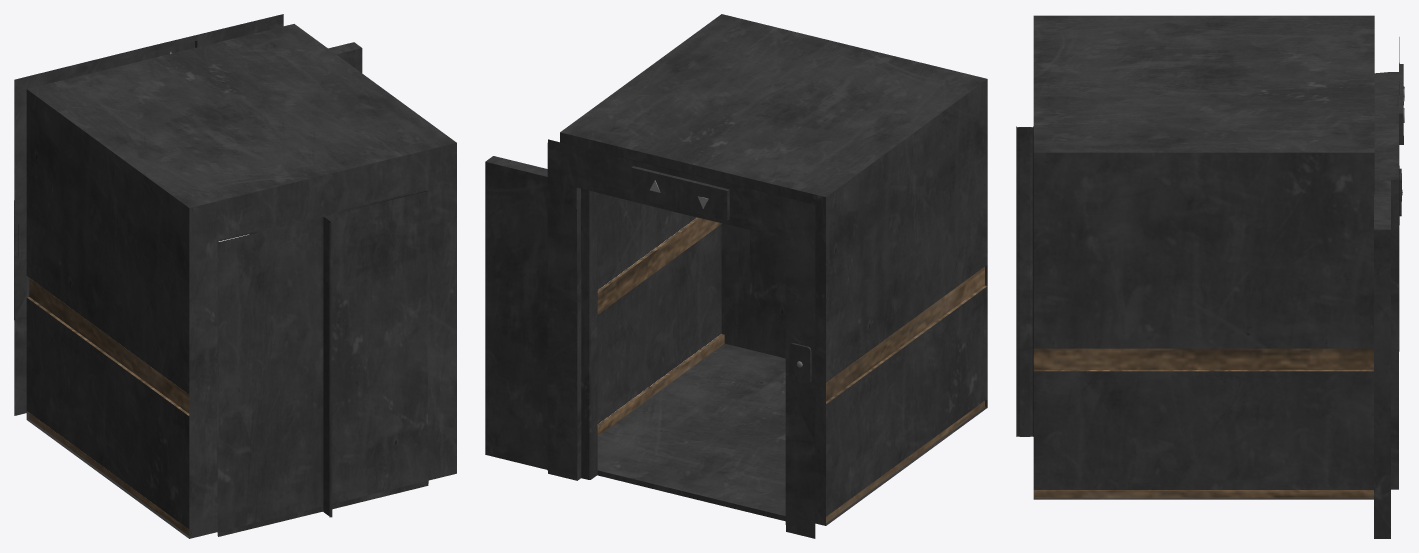
The model's file is elevator.glb.
3 renders of one model, left to right at view 1: azimuth 30°, elevation 25°; view 2: azimuth 150°, elevation 25°; view 3: azimuth 270°, elevation 25°, orthographic. The views are drawn at different scales.
Parts seen in each view (by area): view 1: Main Body; view 2: Main Body; view 3: Main Body.
Boxes of the visible parts, box(x1,y1,x2,y2) form: Main Body: box(14, 14, 456, 538); Main Body: box(485, 14, 987, 538); Main Body: box(1016, 15, 1404, 538).
Bounding box in the file's own units: 179 × 172 × 171.
5 materials, 5 textured.
